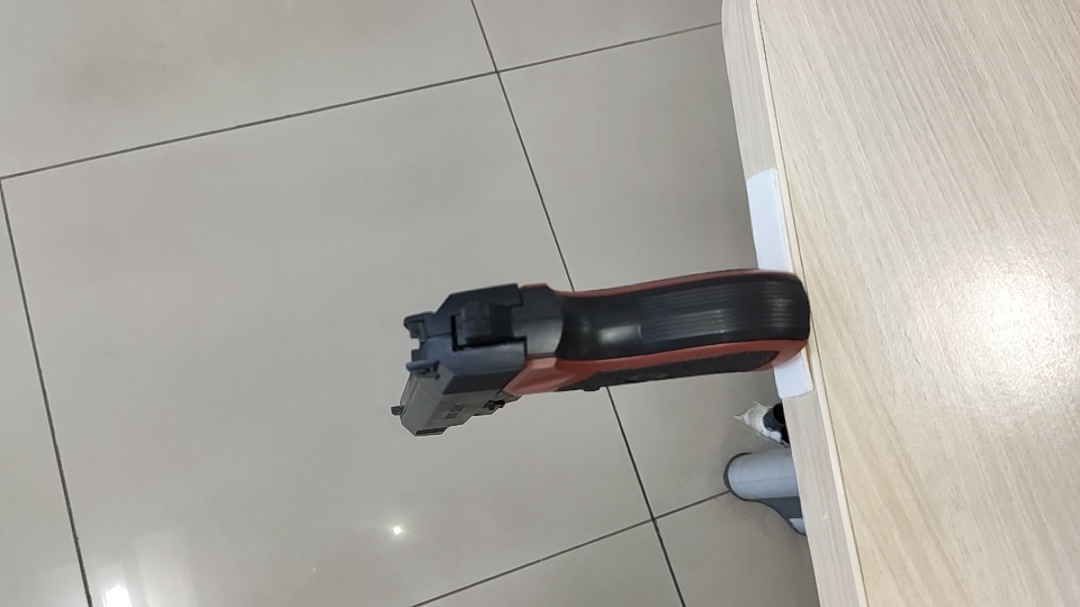gun: (385, 249, 539, 358)
